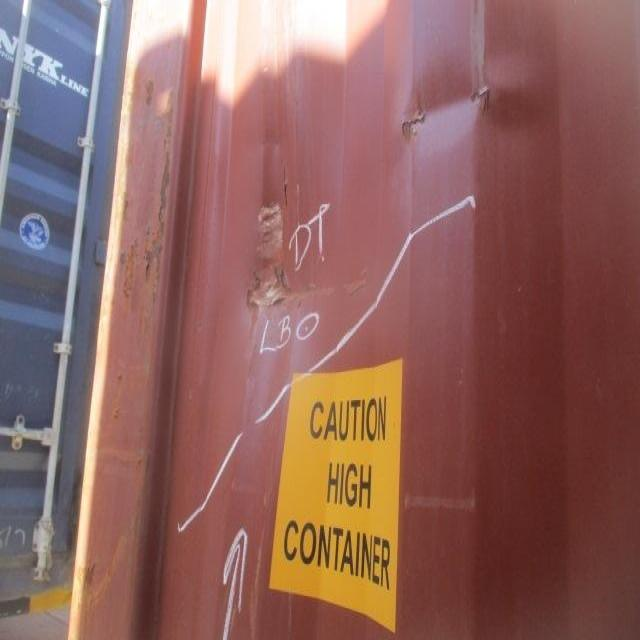dent: (164, 33, 568, 482)
